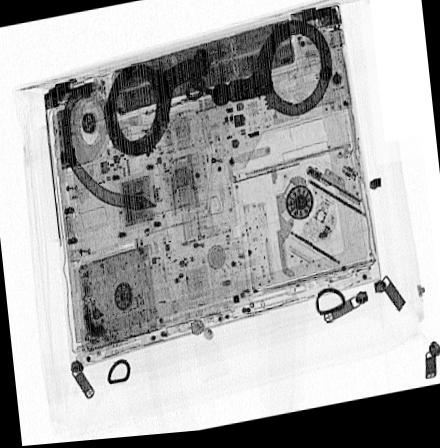HandCuffs: (103, 21, 333, 161)
